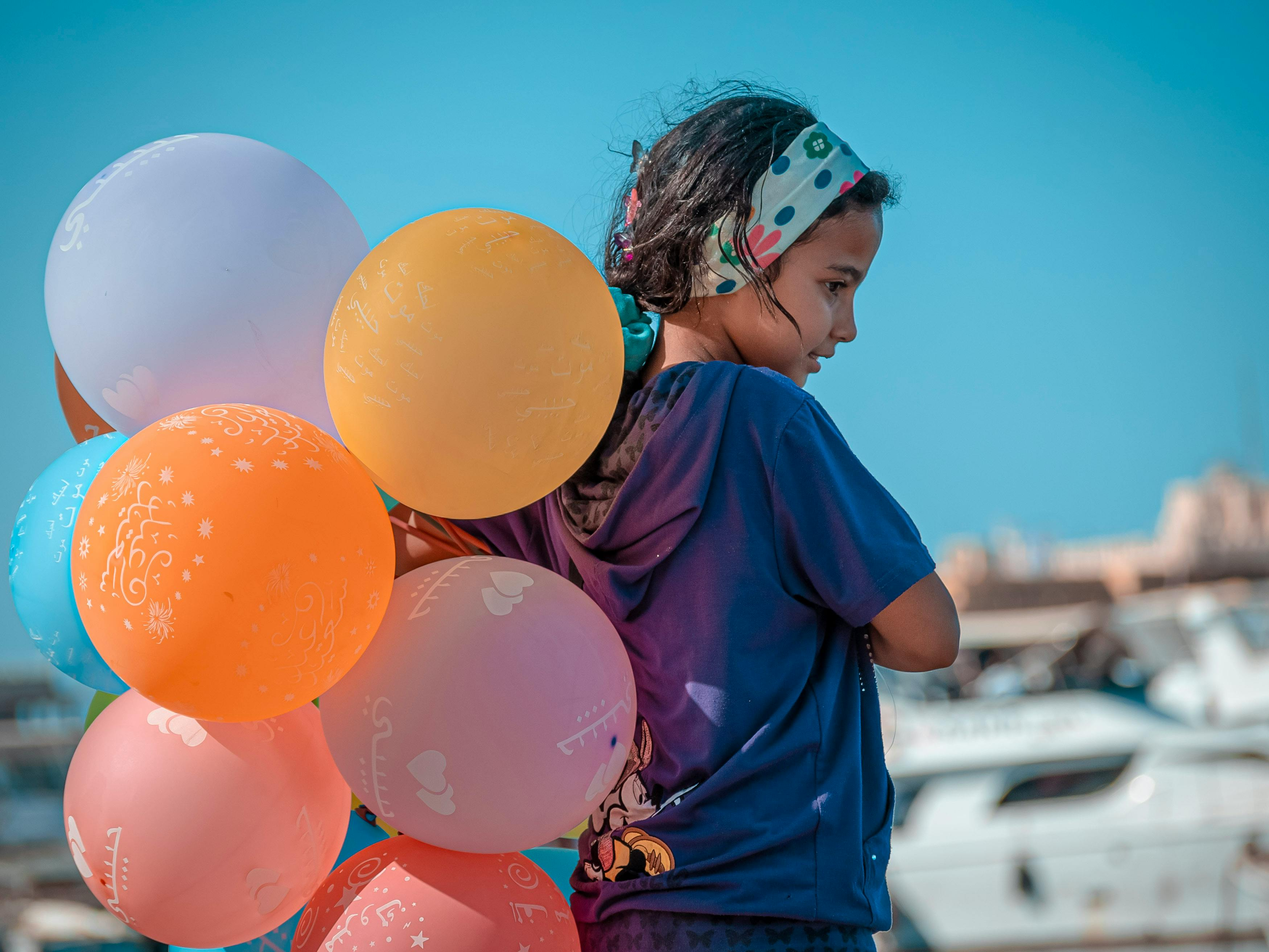balloon: (71, 405, 394, 722), (45, 134, 368, 437), (320, 556, 635, 853), (325, 209, 624, 518), (64, 690, 349, 947), (293, 836, 579, 952), (8, 432, 127, 693), (54, 354, 115, 443)
